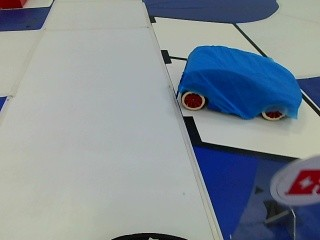battery: (282, 157, 318, 199)
car: (176, 42, 299, 122)
